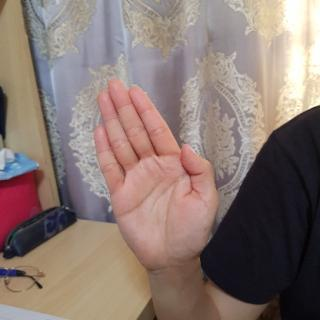SEEN: (86, 71, 227, 284)
